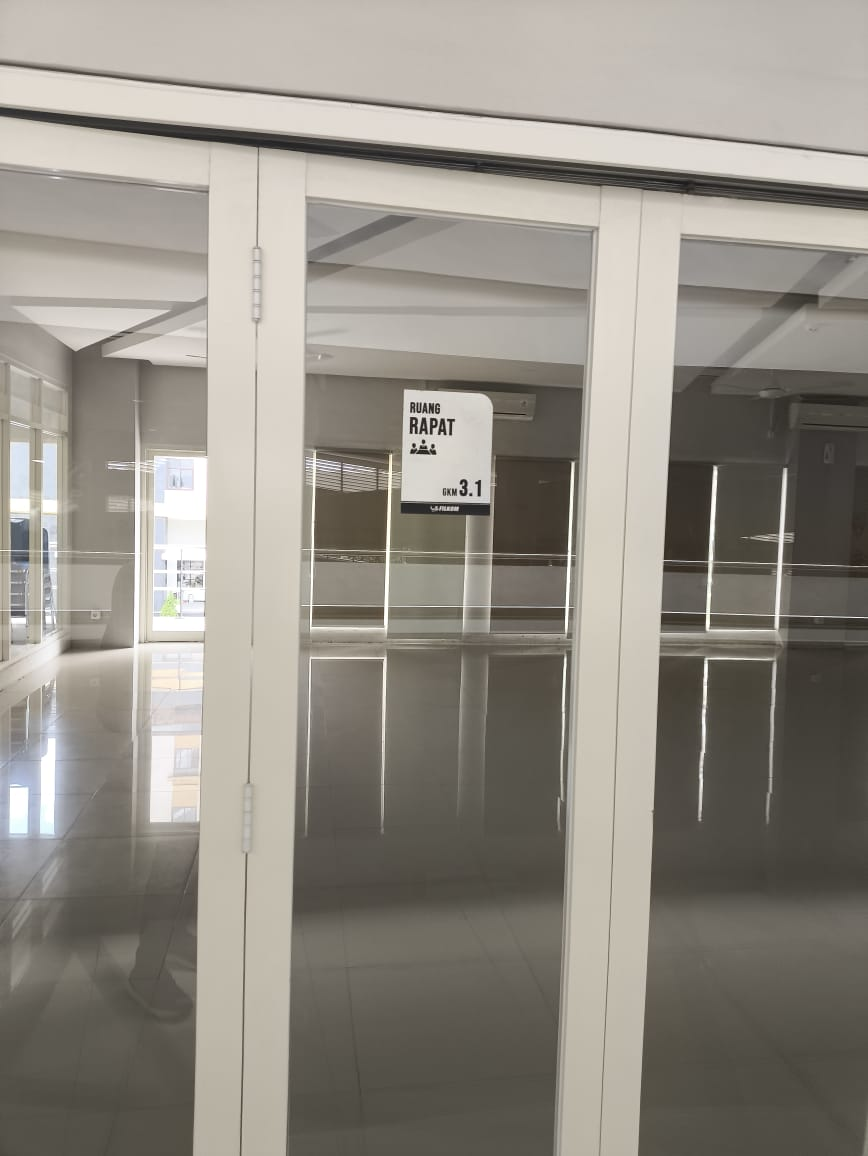ruang rapat: (395, 381, 501, 520)
